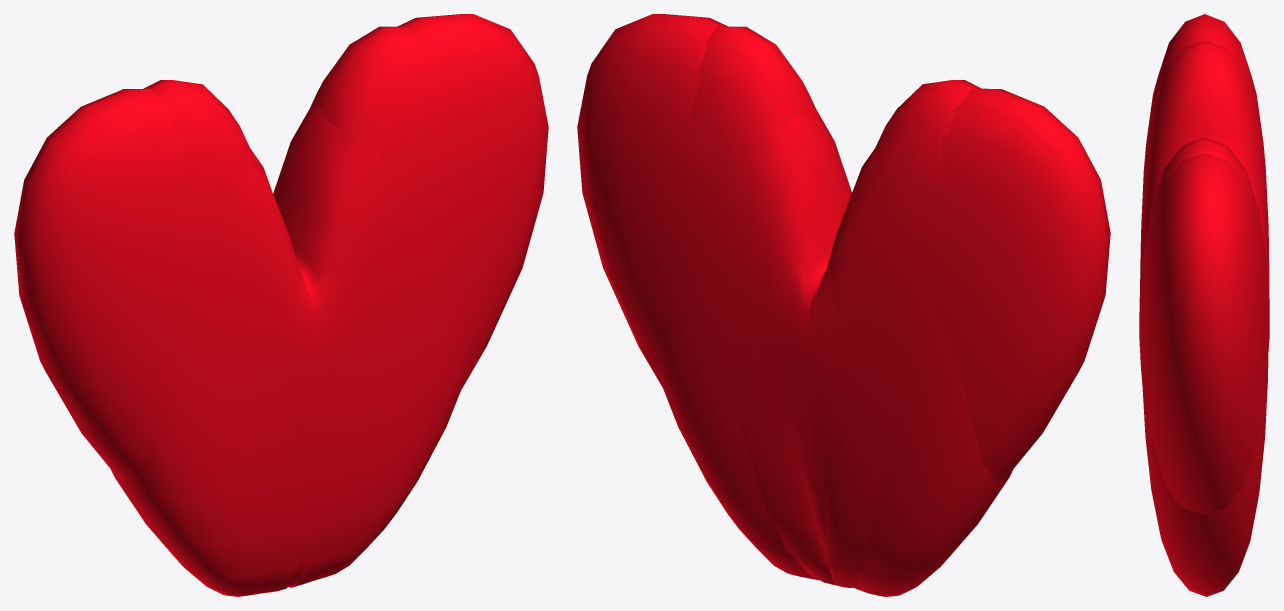
File: HeartCoin.fbx
3 views of the same model, side by side, from view 1: azimuth 30°, elevation 25°; view 2: azimuth 150°, elevation 25°; view 3: azimuth 270°, elevation 25° (orthographic). The views are drawn at different scales.
Visible parts, largest first — view 1: Cube; view 2: Cube; view 3: Cube.
Part boxes in pixels (box(x1,y1,x2,y2)): Cube: box(14, 14, 548, 596); Cube: box(577, 14, 1110, 596); Cube: box(1139, 14, 1269, 596).
Size of the model in its own units: 178 by 173 by 42.17.
